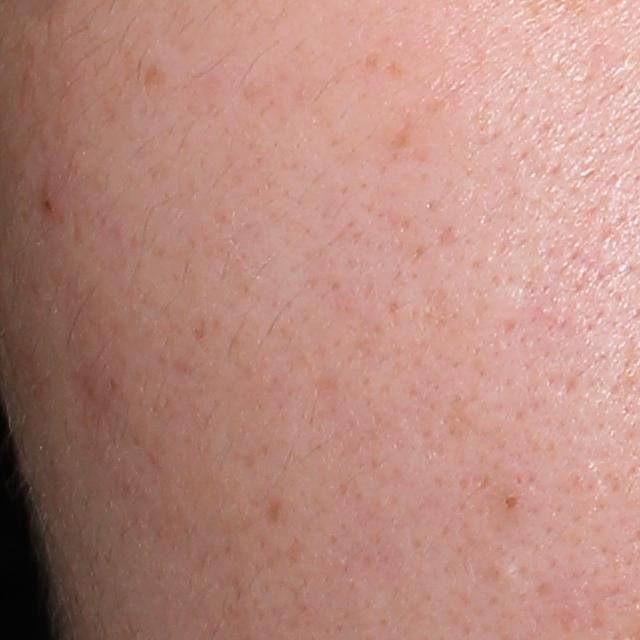comedo: (499, 491, 520, 513)
melasma: (142, 61, 169, 88)
